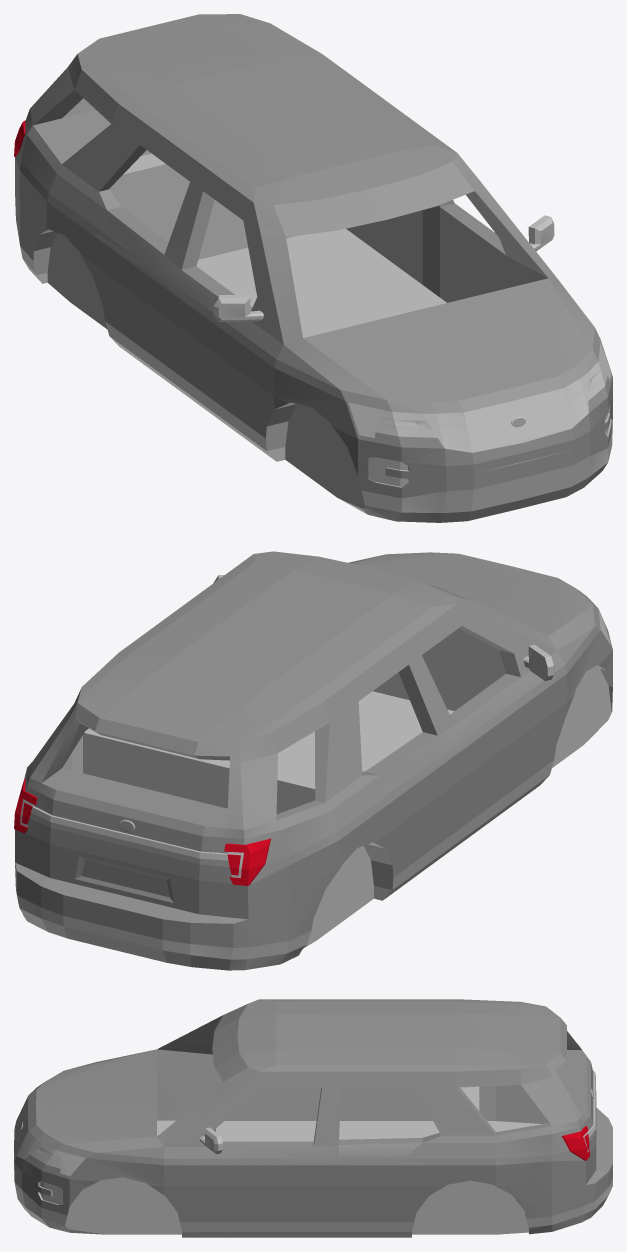
Rendered from Explorer.fbx.
3 renders of one model, top to bottom at view 1: azimuth 30°, elevation 25°; view 2: azimuth 150°, elevation 25°; view 3: azimuth 270°, elevation 25°, orthographic. The views are drawn at different scales.
Visible parts, largest first — view 1: Model_0, Model_1, Headlights; view 2: Model_0, Model_1, Taillights; view 3: Model_0, Model_1, Headlights, Taillights.
Part boxes in pixels (left/top/right/bottom): Model_0: left=15, top=14, right=612, bottom=522; Model_1: left=15, top=71, right=612, bottom=509; Headlights: left=348, top=341, right=611, bottom=486; Model_0: left=15, top=551, right=612, bottom=970; Model_1: left=16, top=552, right=612, bottom=962; Taillights: left=14, top=779, right=270, bottom=885; Model_0: left=14, top=999, right=612, bottom=1237; Model_1: left=14, top=1015, right=612, bottom=1234; Headlights: left=30, top=1132, right=589, bottom=1204; Taillights: left=561, top=1126, right=590, bottom=1160.
Bounding box in the file's own units: 343 × 211 × 717.
